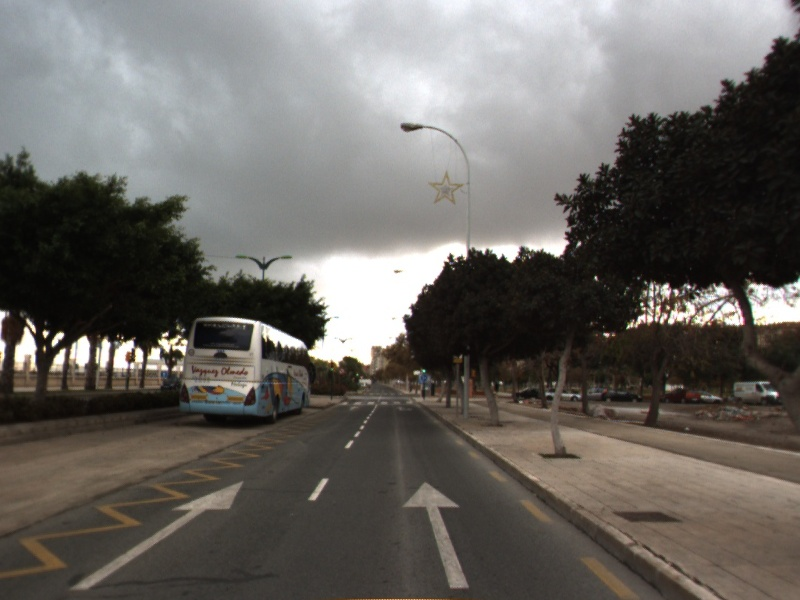STRAIGHT: (67, 477, 246, 592), (400, 480, 472, 590)
